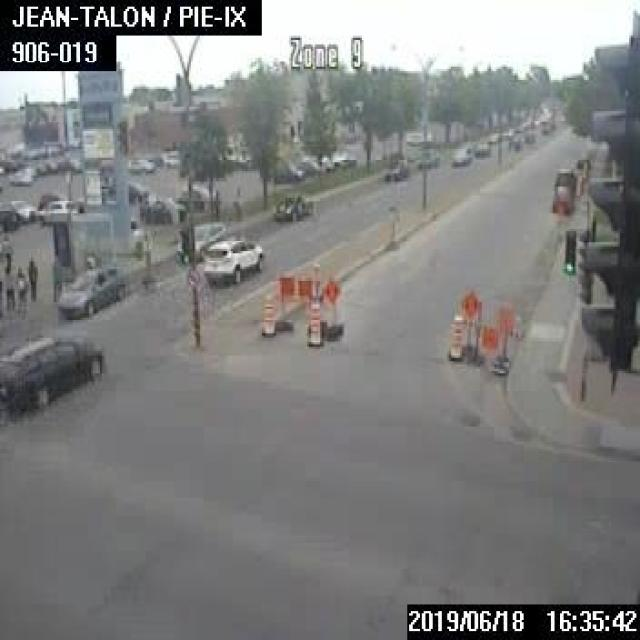construction: (269, 264, 342, 337), (456, 288, 518, 372), (305, 300, 322, 346), (446, 312, 462, 359), (259, 291, 274, 334)
pedestrian: (47, 253, 62, 304), (14, 264, 26, 314), (0, 264, 13, 306), (25, 256, 37, 300), (0, 234, 11, 268)
vehicle: (0, 329, 104, 411), (55, 264, 127, 322), (202, 236, 261, 282), (176, 220, 226, 260), (174, 183, 218, 211), (36, 197, 77, 224), (274, 189, 312, 218), (139, 197, 184, 220), (272, 164, 304, 182), (550, 183, 571, 210), (0, 201, 18, 232), (552, 167, 576, 190), (9, 198, 34, 220), (384, 157, 406, 179), (128, 180, 148, 202), (416, 147, 437, 167), (128, 157, 152, 172), (450, 146, 470, 164), (298, 158, 320, 174), (8, 172, 30, 184), (472, 140, 489, 154), (577, 152, 588, 168)
